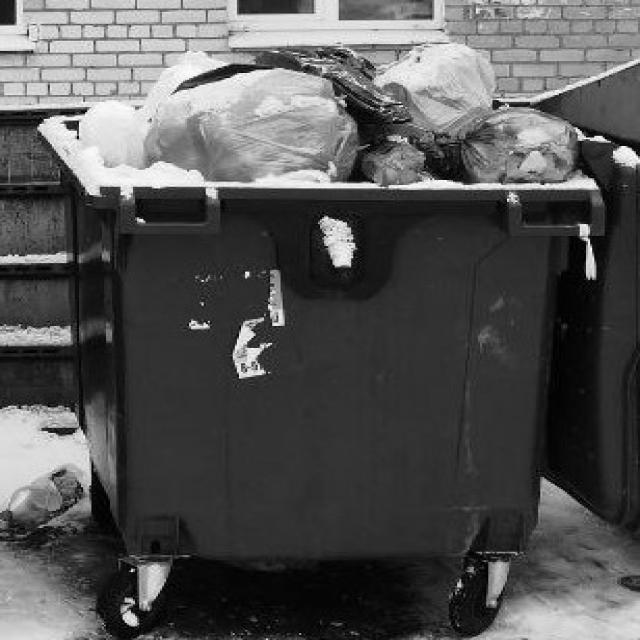bin: (43, 136, 610, 635)
plastic: (84, 44, 577, 182)
